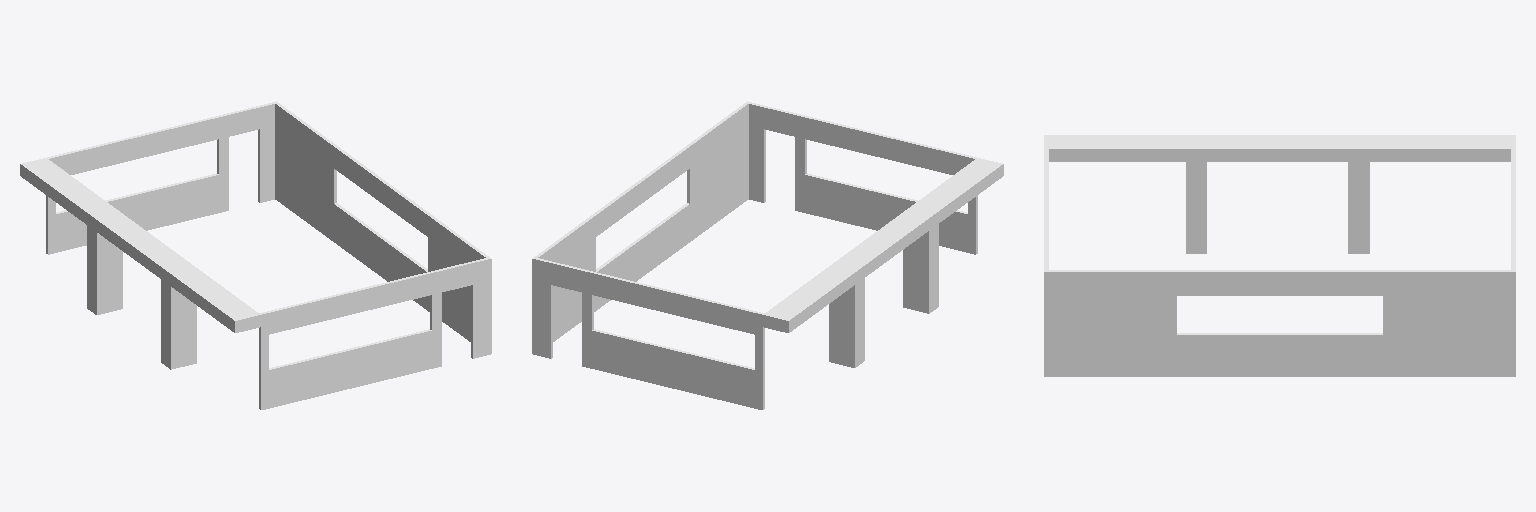
URDF robot description (Walls):
<?xml version="1.0" encoding="utf-8"?>
<!-- This URDF was automatically created by SolidWorks to URDF Exporter! Originally created by [author] ([email redacted]) 
     Commit Version: 1.5.1-0-g916b5db  Build Version: 1.5.7152.31018
     For more information, please see http://wiki.ros.org/sw_urdf_exporter -->
<robot
  name="Walls">
  <link
    name="base_link">
    <inertial>
      <origin
        xyz="2.34949944582565 -5.49596997809541 1.65531615925928"
        rpy="0 0 0" />
      <mass
        value="9695.62419839998" />
      <inertia
        ixx="72709.5072177744"
        ixy="-3.8167627221271E-13"
        ixz="-444.173490155236"
        iyy="15946.9382028641"
        iyz="-77.2416978554188"
        izz="75340.5899115106" />
    </inertial>
    <visual>
      <origin
        xyz="0 0 0"
        rpy="0 0 0" />
      <geometry>
        <mesh
          filename="package://Walls/meshes/base_link.STL" />
      </geometry>
      <material
        name="">
        <color
          rgba="1 1 1 1" />
      </material>
    </visual>
    <collision>
      <origin
        xyz="0 0 0"
        rpy="0 0 0" />
      <geometry>
        <mesh
          filename="package://Walls/meshes/base_link.STL" />
      </geometry>
    </collision>
  </link>
</robot>

--- Facts derived from the render (not from the file) ---
The picture shows the robot from 3 angles, left to right: view 1: azimuth 30°, elevation 25°; view 2: azimuth 150°, elevation 25°; view 3: azimuth 270°, elevation 25°; orthographic projection.
Robot: Walls — 1 links, 0 joints (none); root link base_link; default pose: all joints at 0.
Visible links, largest first — view 1: base_link; view 2: base_link; view 3: base_link.
Link boxes in pixels (<box>): base_link: <box>20,101,491,409</box>; base_link: <box>532,101,1003,409</box>; base_link: <box>1044,135,1515,376</box>.
Bounding box of the posed robot: 7.56 × 10.97 × 2.7 m (x, y, z).
1 mesh visuals loaded from 1 distinct referenced files (1 binary STL).